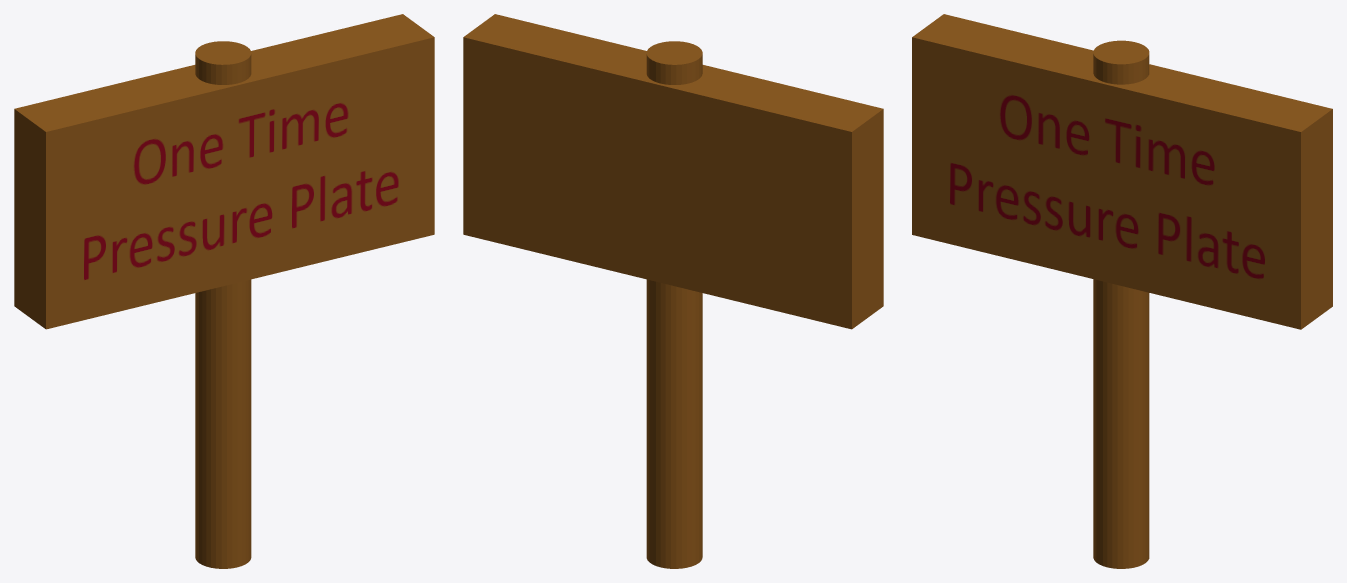
File: OneTimePressurePlateSign.fbx
3 renders of one model, left to right at view 1: azimuth 30°, elevation 25°; view 2: azimuth 150°, elevation 25°; view 3: azimuth 330°, elevation 25°, orthographic.
Visible parts, largest first — view 1: Cube, Cylinder; view 2: Cube, Cylinder; view 3: Cube, Cylinder.
Part boxes in pixels (x1=…): Cube: x1=14, y1=14, x2=434, y2=329; Cylinder: x1=195, y1=41, x2=251, y2=568; Cube: x1=463, y1=14, x2=883, y2=329; Cylinder: x1=646, y1=41, x2=702, y2=568; Cube: x1=912, y1=14, x2=1332, y2=329; Cylinder: x1=1093, y1=40, x2=1149, y2=568.
Bounding box in the file's own units: 0.5827 × 4.12 × 5.11.
2 materials, 1 textured.
